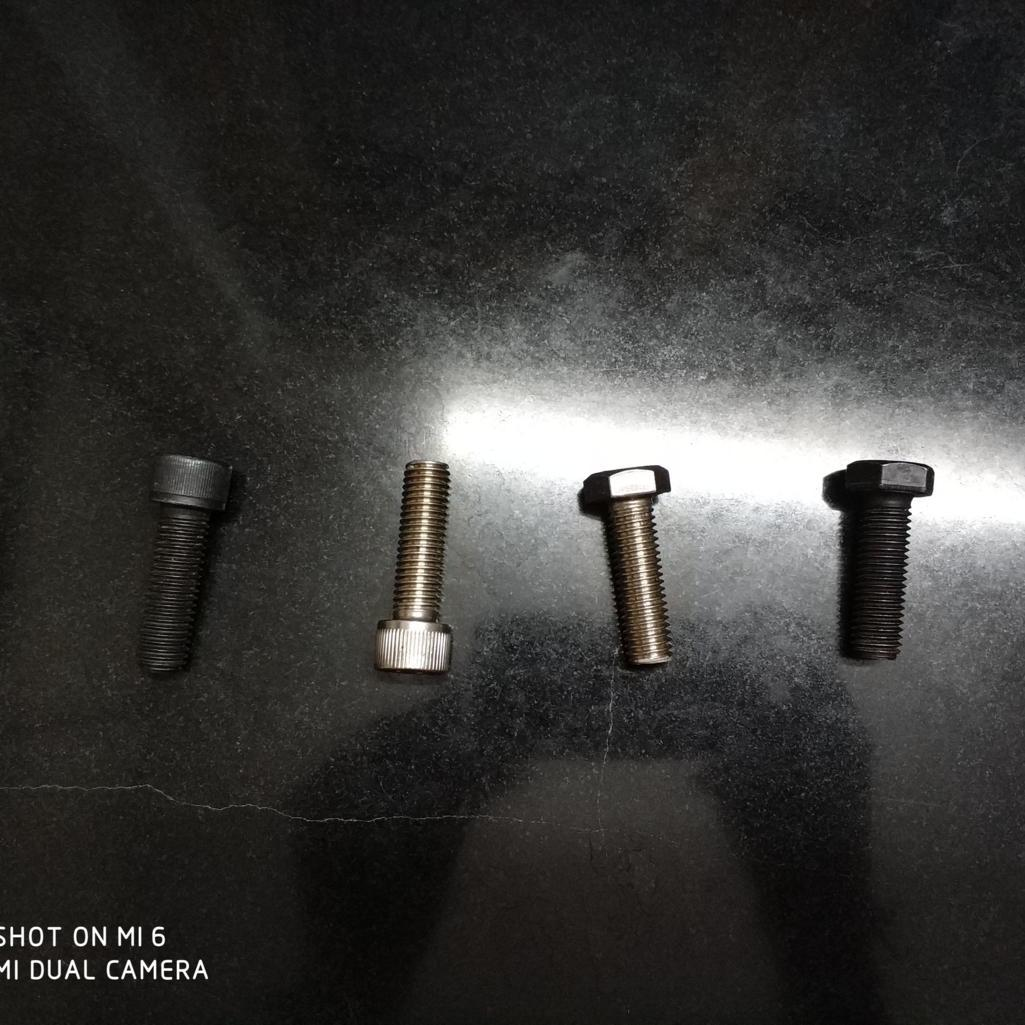screwtype1black: (135, 448, 231, 681)
screwtype1silver: (374, 456, 455, 686)
screwtype2black: (817, 452, 932, 664)
screwtype2silver: (575, 463, 695, 671)
